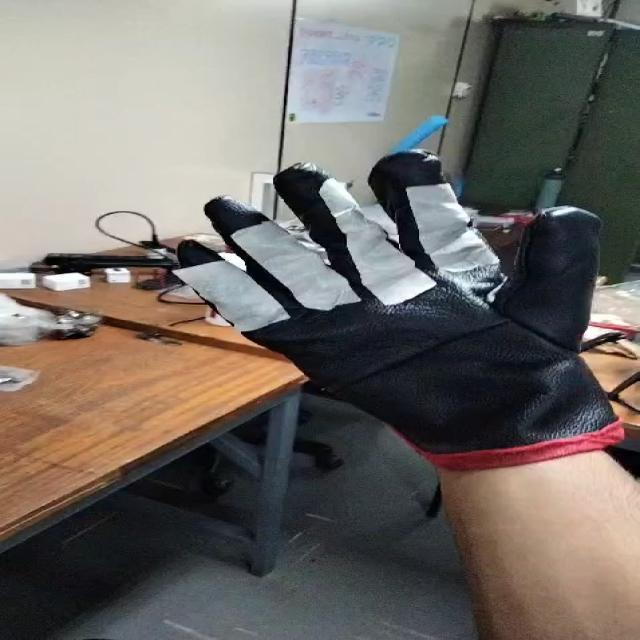Gloves: (174, 147, 633, 461)
